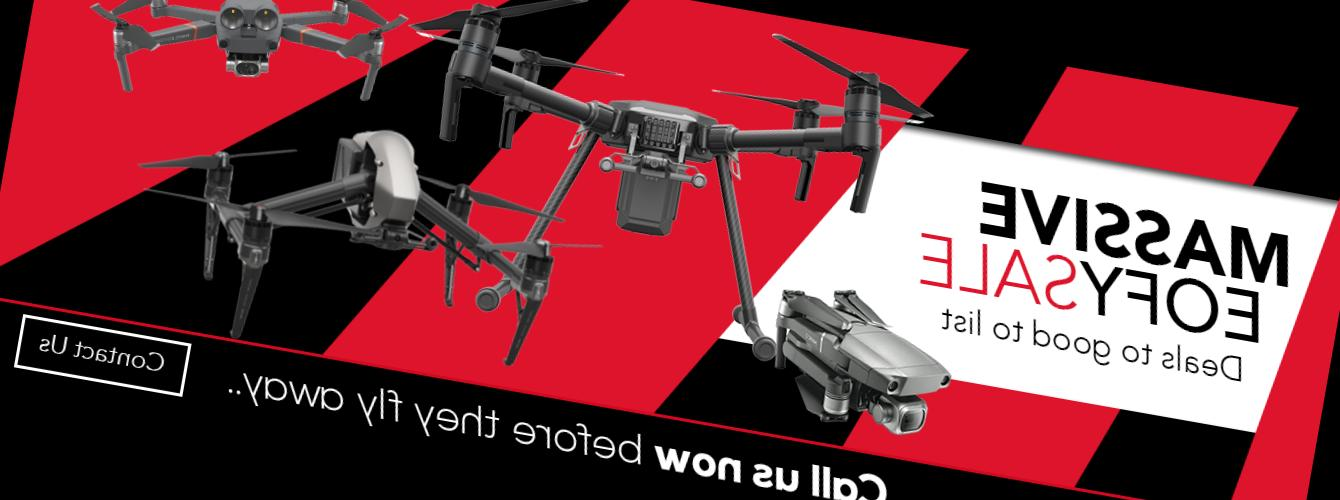drone: (386, 0, 957, 294), (117, 92, 596, 371), (70, 0, 405, 123)
